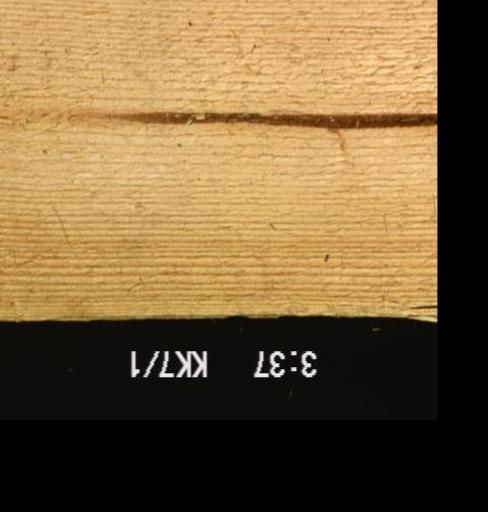split: (405, 301, 436, 311)
